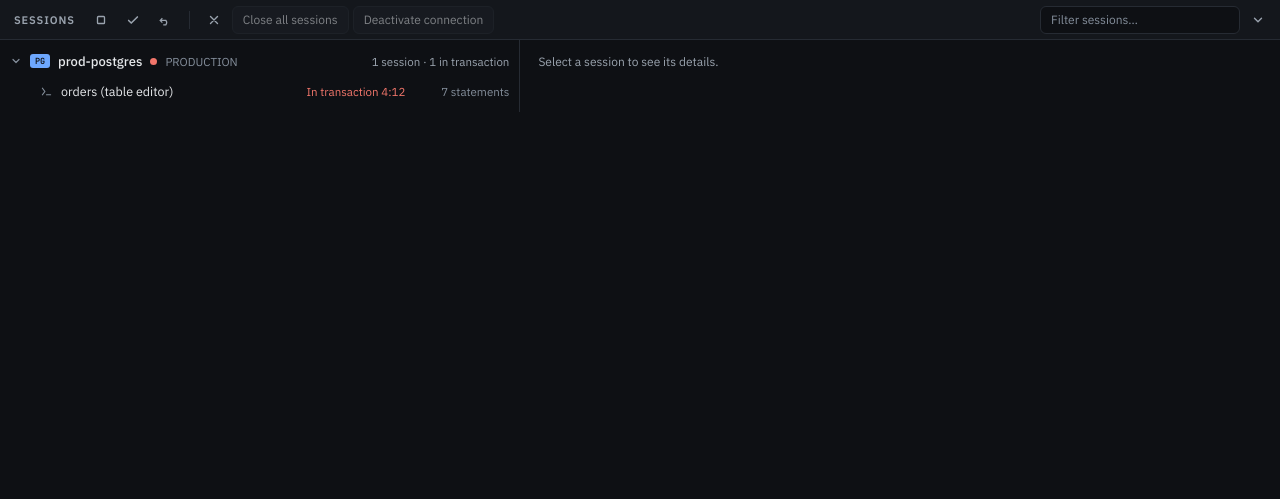
Test case: details (spec: session-manager › Details of a transaction) › shows the breakdown and the last three statements with times
Click the list item "orders (table editor) In transaction 4:12 7 statements".
click(117, 91)  # box [40,83,509,99]
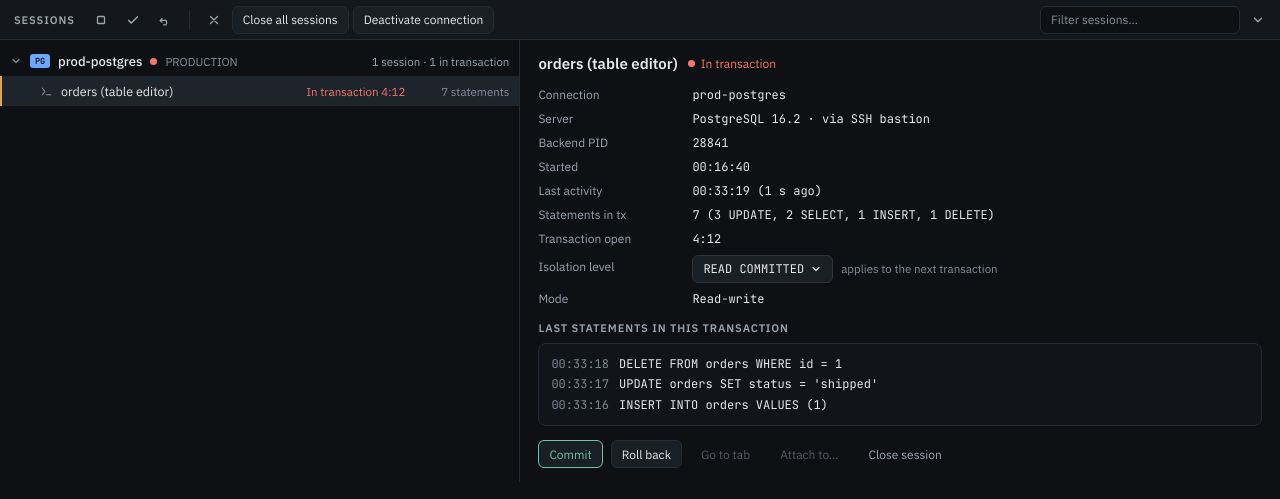
Result: the text "7 (3 UPDATE, 2 SELECT, 1 INSERT, 1 DELETE)" is shown at [692,207,995,223]
Result: the text "00:33:18" is shown 3 times at [551,356,609,372]; [551,376,609,392]; [551,397,609,413]
Result: the text "00:33:18DELETE FROM orders WHERE id = 1" is shown at [551,356,842,372]
